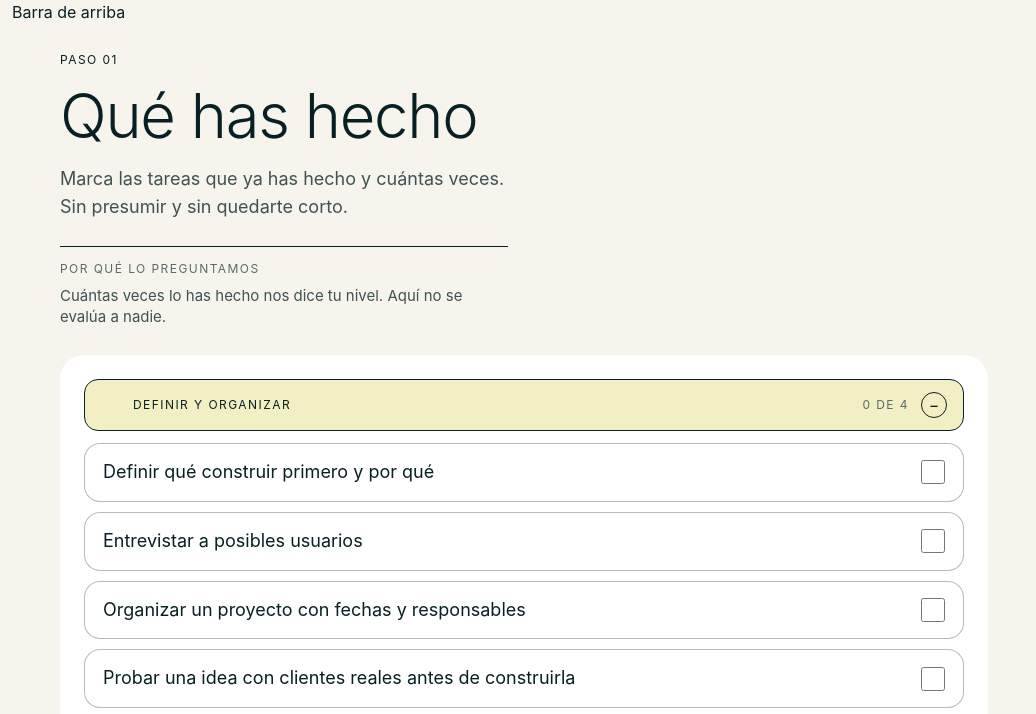
Scenario: TareasView › desmarcar una tarea quita sus opciones y baja los contadores
Click the checkbox labelled "Entrevistar a posibles usuarios".
click(933, 541)  # box [921,529,945,553]
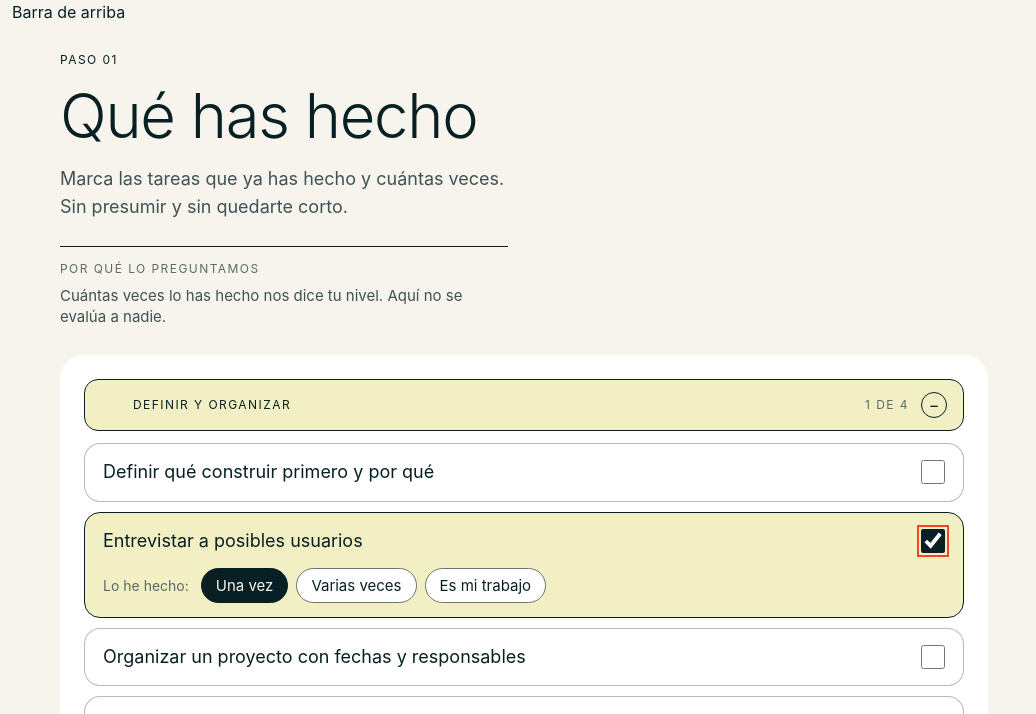
Click the checkbox labelled "Entrevistar a posibles usuarios".
click(933, 541)  # box [921,529,945,553]
(page scrolled)
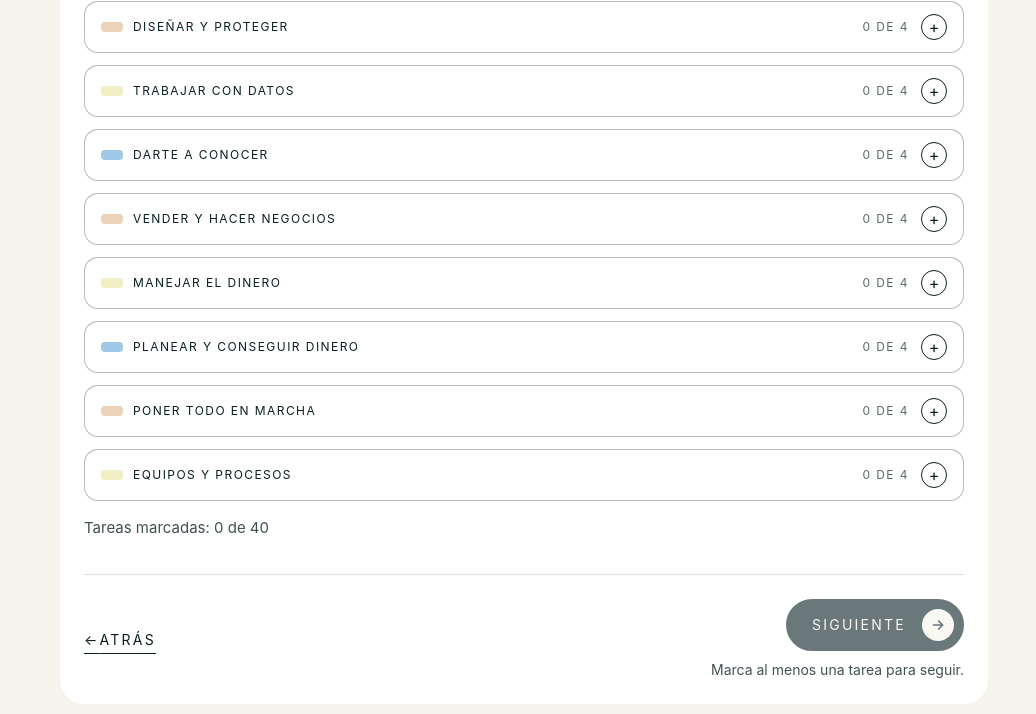
Check: the radio button is gone
Check: the text "Tareas marcadas: 0 de 40" is shown, box [84,518,269,537]
Check: the button "Siguiente" is disabled, box [786,599,964,651]
